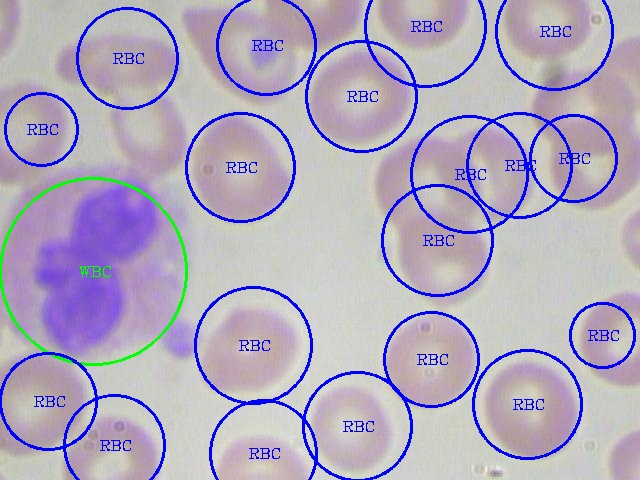Platelets: (158, 316, 204, 364)
RBC: (185, 112, 297, 225), (185, 1, 303, 106), (367, 132, 484, 237), (301, 45, 414, 147), (478, 352, 584, 460), (377, 306, 483, 411), (194, 299, 305, 398), (526, 60, 638, 156), (439, 120, 540, 225), (390, 208, 494, 309), (0, 349, 91, 456), (543, 114, 639, 213), (304, 379, 399, 472), (104, 84, 195, 177), (1, 78, 74, 186), (55, 410, 164, 478), (55, 30, 177, 87), (574, 285, 638, 386), (501, 1, 598, 63), (261, 0, 369, 51), (369, 0, 475, 51), (207, 427, 312, 478)
WBC: (1, 166, 202, 366)
